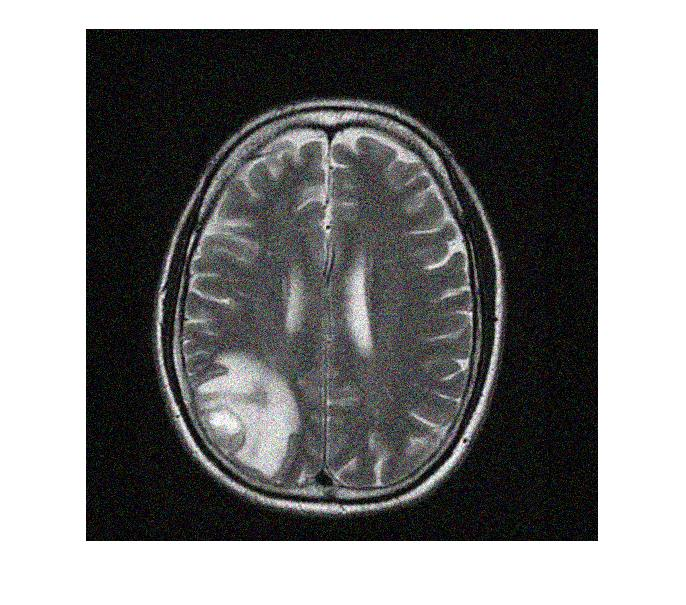Brain_Cancer: (192, 358, 309, 474)
